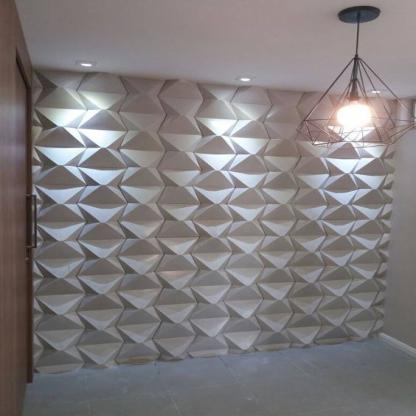Futech tiles: (62, 84, 278, 324)
